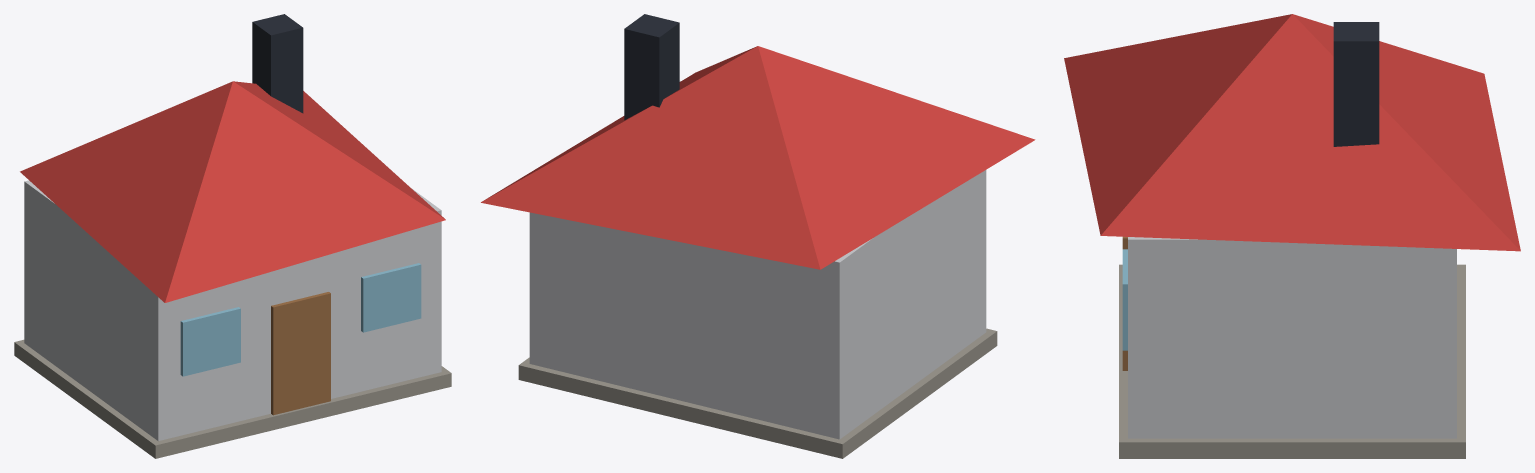
The model's file is house_a.glb.
3 views of the same model, side by side, from view 1: azimuth 30°, elevation 25°; view 2: azimuth 150°, elevation 25°; view 3: azimuth 270°, elevation 25° (orthographic). The views are drawn at different scales.
Parts seen in each view (by area): view 1: house_a; view 2: house_a; view 3: house_a.
Part boxes in pixels (x1,y1,x2,y2): house_a: [14, 14, 451, 458]; house_a: [481, 14, 1035, 458]; house_a: [1064, 14, 1520, 458].
Bounding box in the file's own units: 5 × 4.6 × 5.
